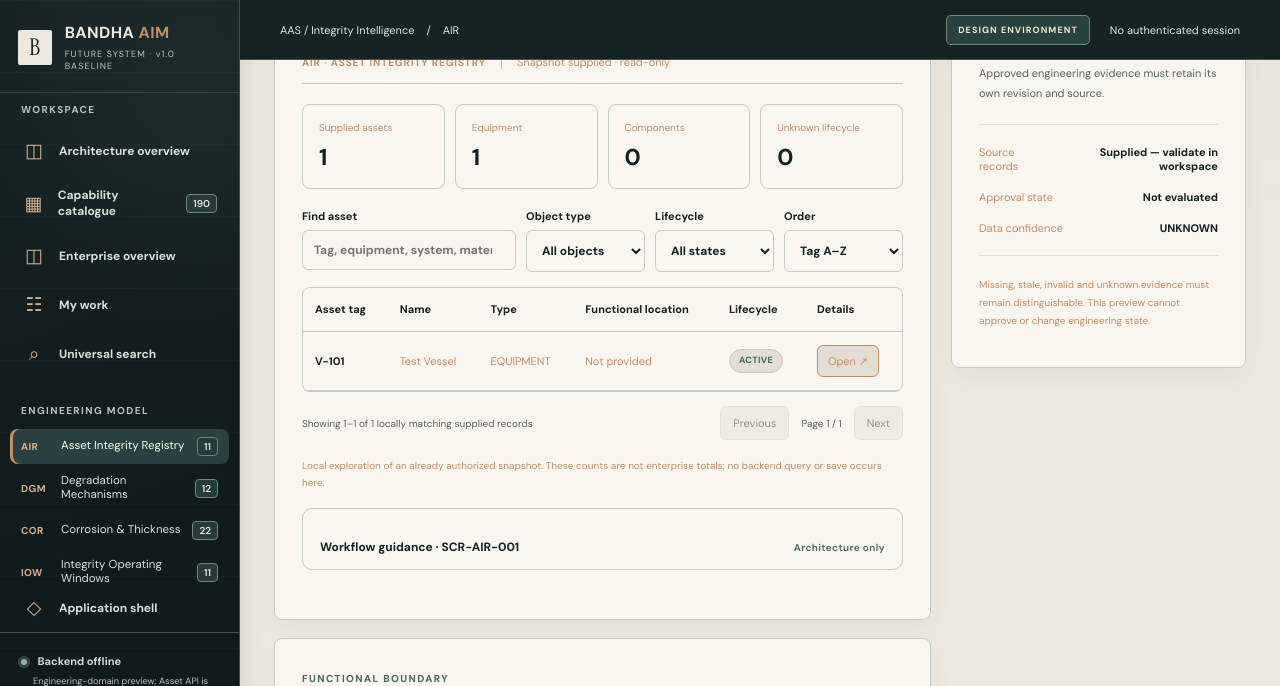
Scenario: Phase 46.4: three-domain canonical journey › navigates AIR → COR → INS → AIR without losing the authorized asset selection
(page scrolled)
Click the button with aria-label "Open V-101 workspace". click: [848, 361]
box: [817,345,879,377]
(page scrolled)
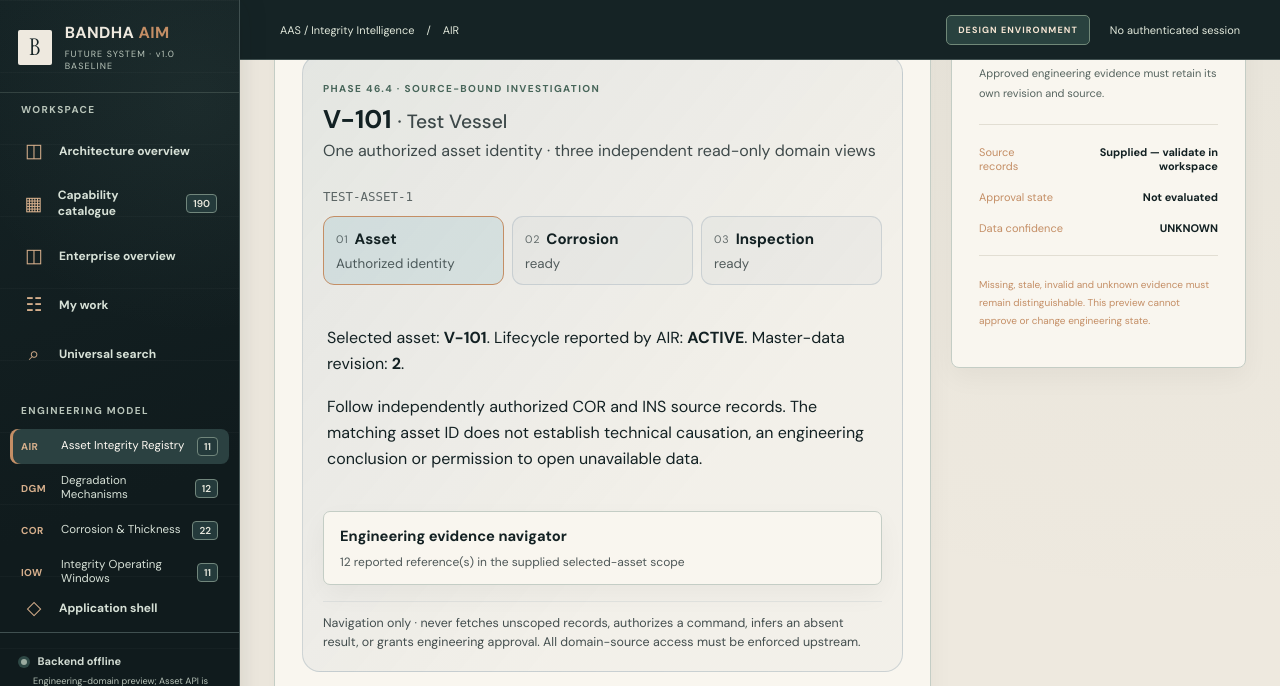
Check: the text "Selected asset:" is shown, box [327,327,444,348]
Click the button "02 Corrosion ready". click: [602, 250]
box: [512,216,693,285]
(page scrolled)
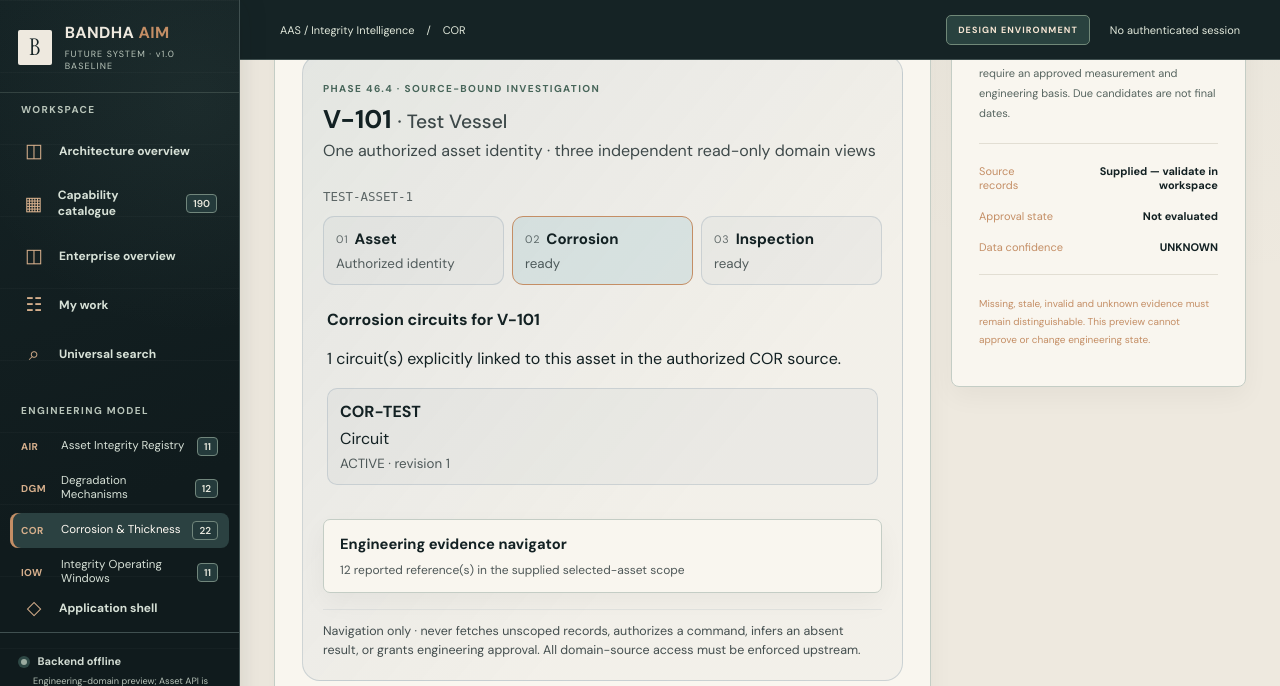
Click the button "COR-TEST Circuit ACTIVE · revision 1". click: [380, 412]
box: [327,388,878,485]
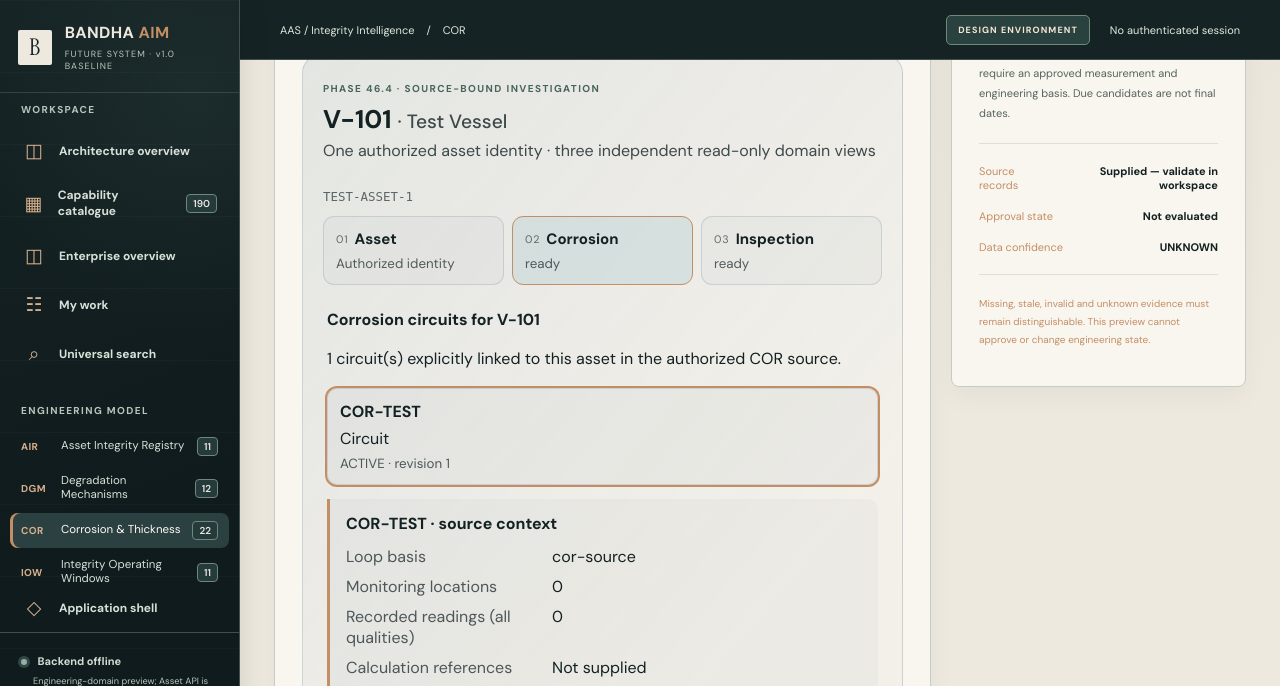
Check: the text "cor-source" is shown, box [552,546,636,567]
Click the button "03 Inspection ready". click: [792, 250]
box: [701,216,882,285]
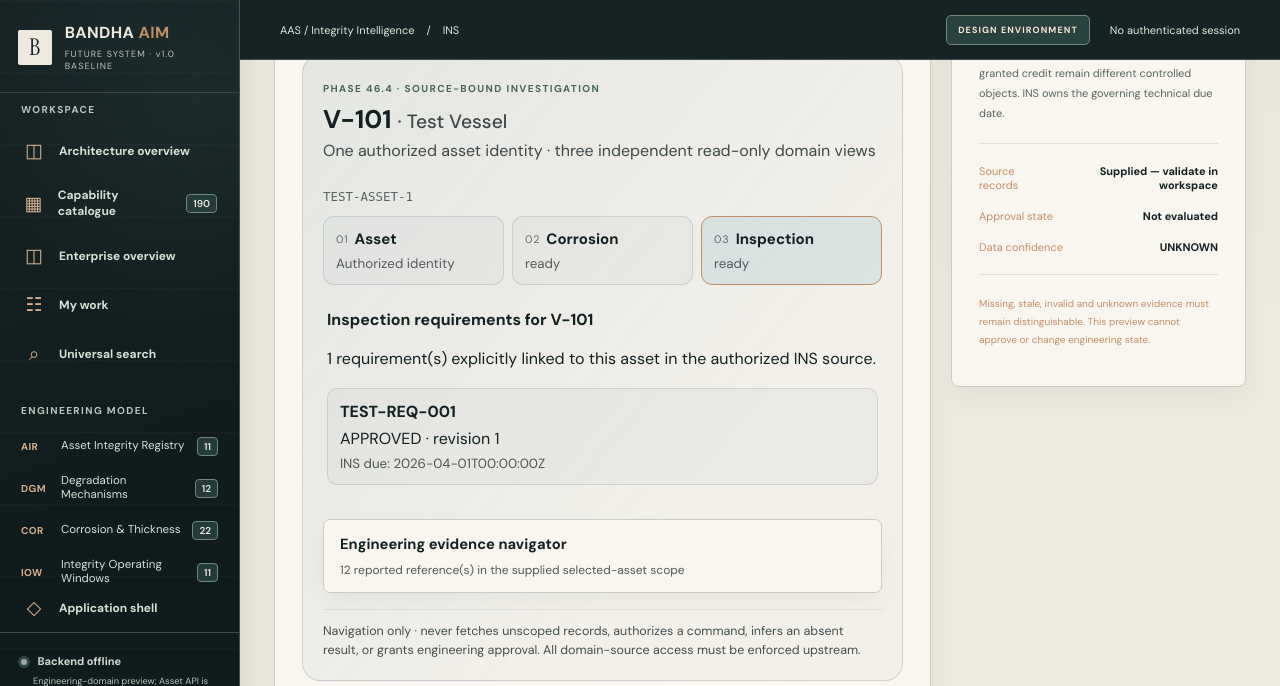
Click the button "TEST-REQ-001". click: [398, 412]
box: [327,388,878,485]
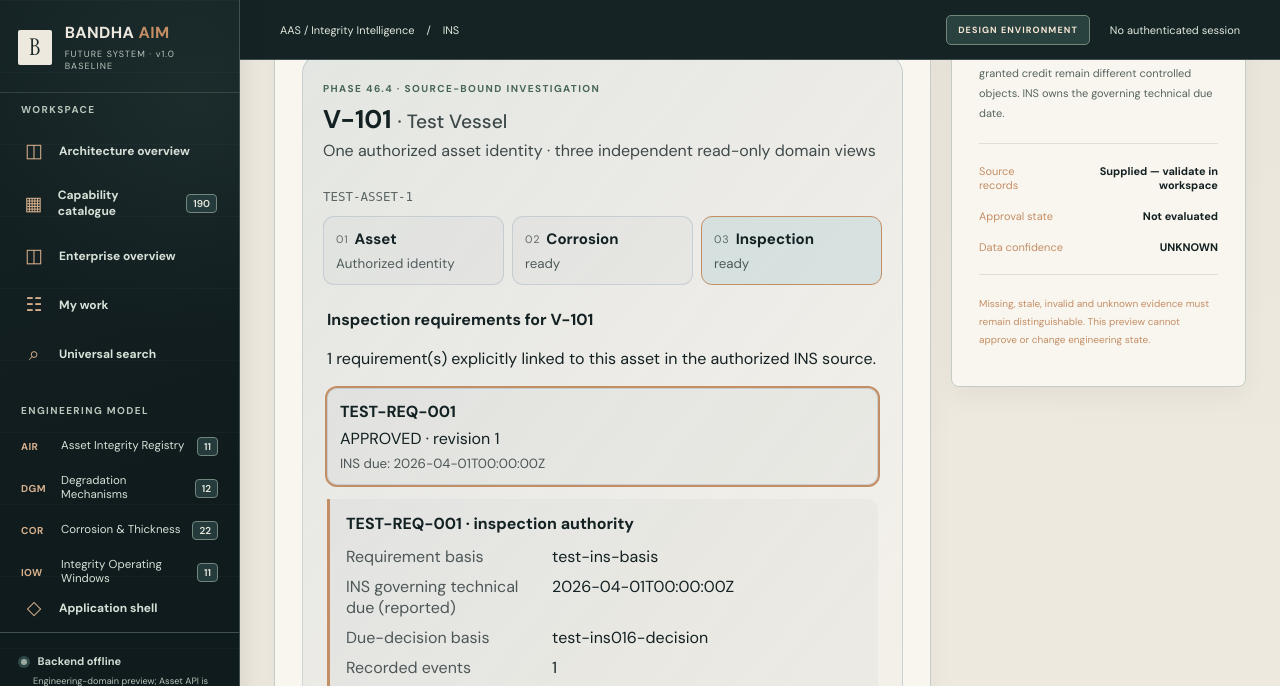
Check: the text "test-ins016-decision" is shown, box [552,627,708,648]
Click the button "01 Asset Authorized identity". click: [414, 250]
box: [323,216,504,285]
(page scrolled)
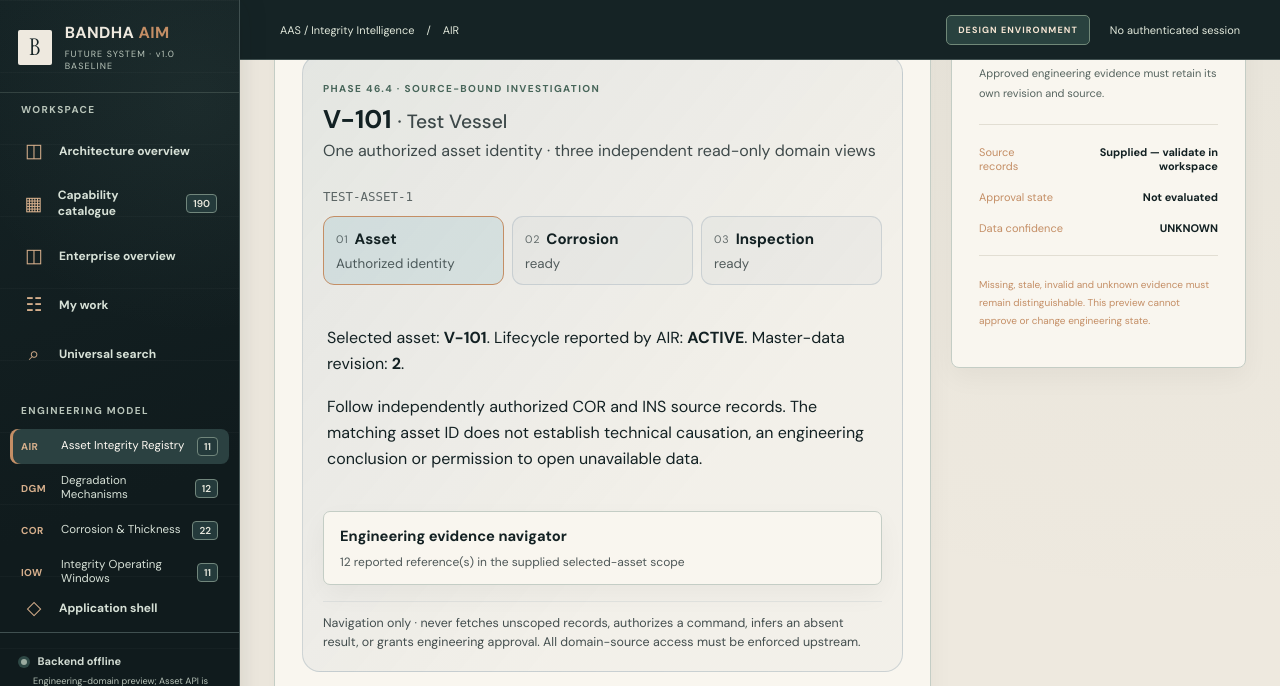
Check: the text "Selected asset:" is shown, box [327,327,444,348]
